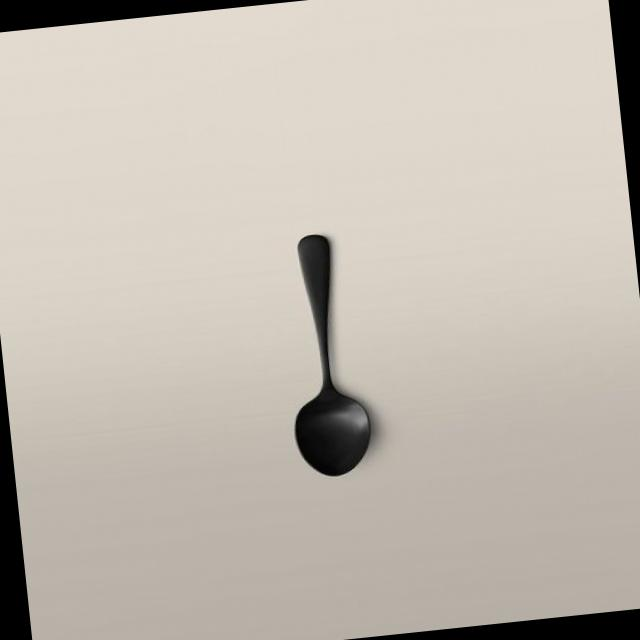spoon: (248, 202, 396, 494)
